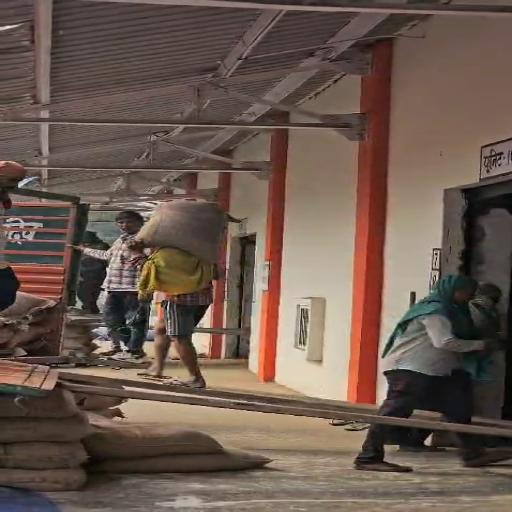bag: (136, 194, 248, 265)
